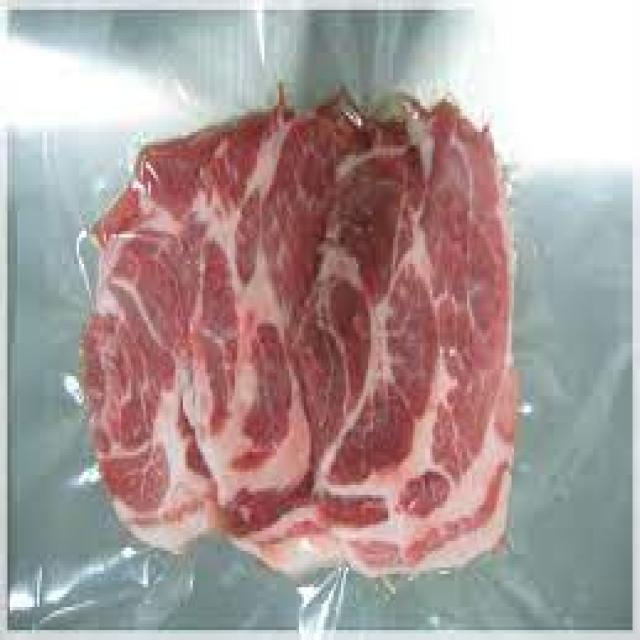pork: (65, 87, 537, 596)
